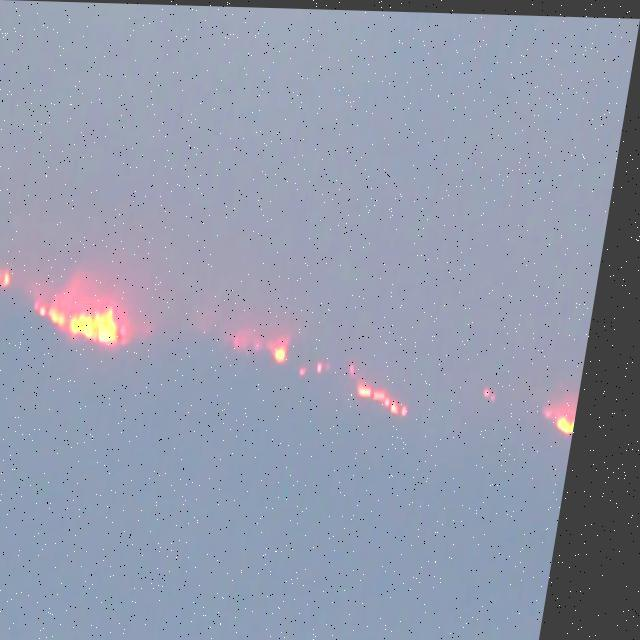Fire: (42, 300, 134, 344), (366, 378, 424, 418), (0, 266, 22, 284), (568, 411, 588, 429), (283, 341, 298, 359)
